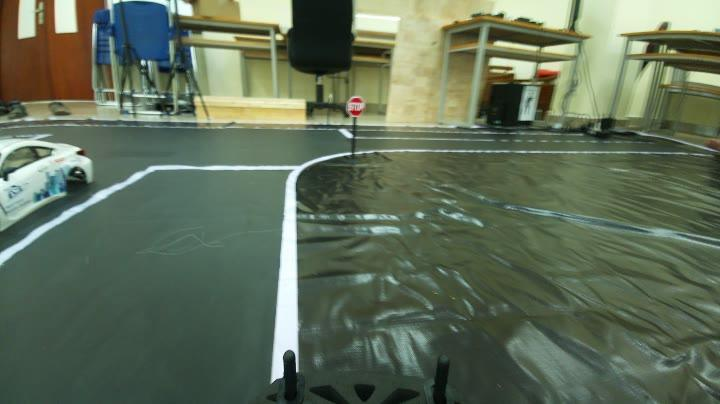stop: (341, 92, 370, 118)
